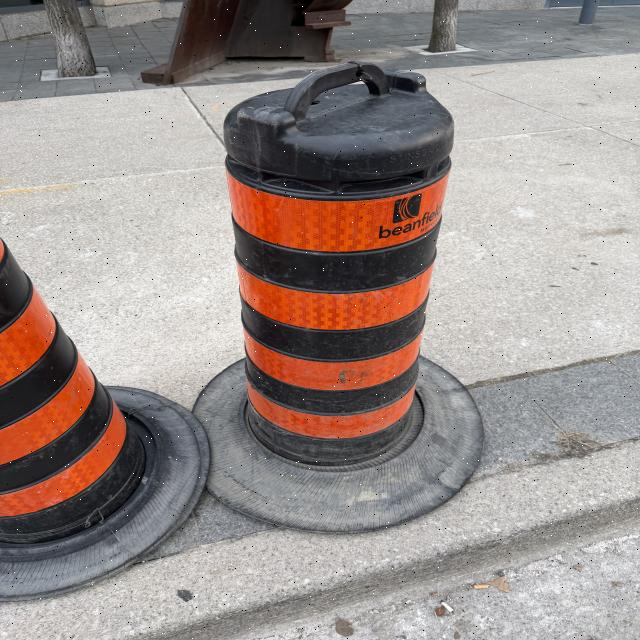Teraffic Barrel: (194, 63, 482, 531), (0, 240, 209, 600)
